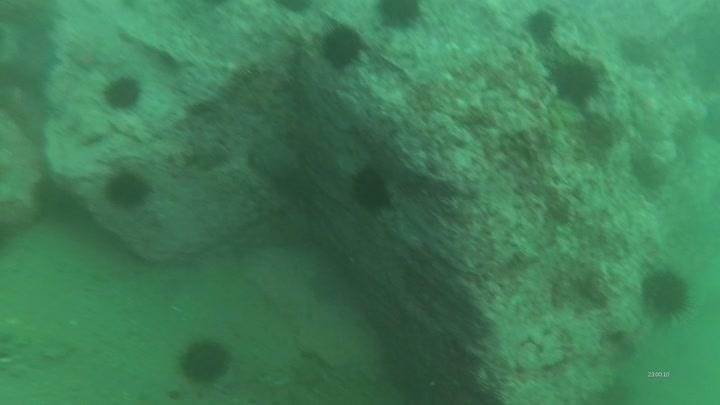echinus: (638, 265, 694, 323), (547, 55, 604, 106), (176, 336, 233, 386), (319, 23, 366, 71), (102, 168, 153, 210), (349, 165, 393, 213), (101, 73, 144, 112), (373, 1, 426, 32), (523, 8, 560, 45), (616, 34, 655, 69), (274, 0, 314, 17)
starfish: (3, 36, 62, 90), (67, 41, 107, 74)
